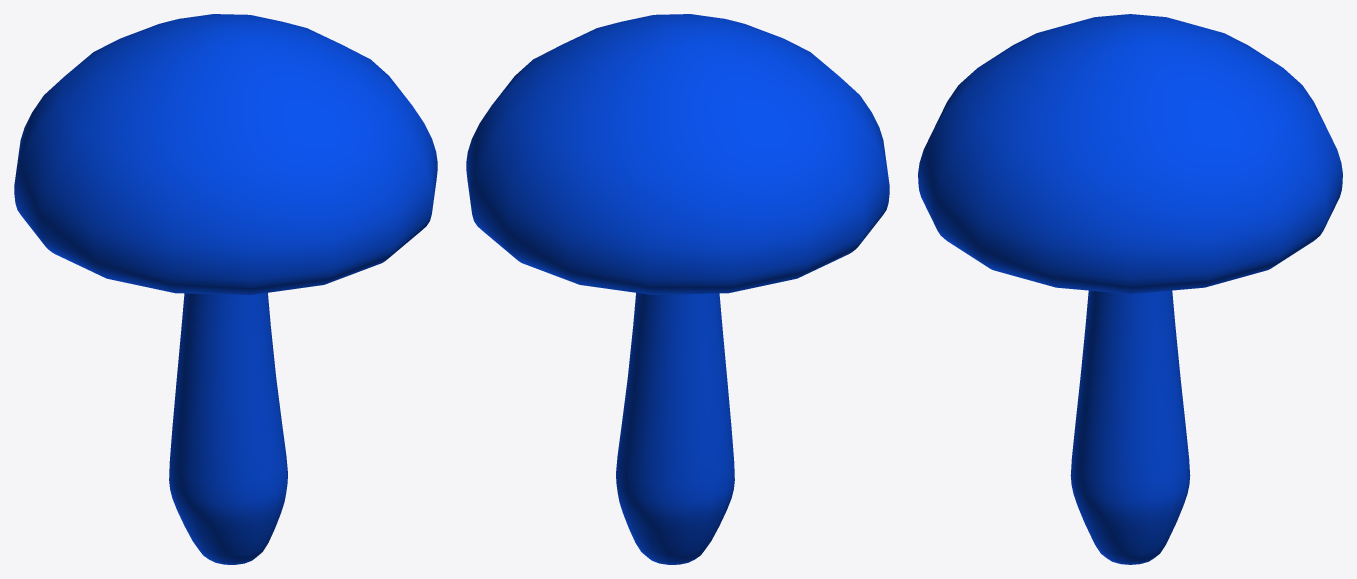
The model's file is Fantasy_Mushroom single.fbx.
3 views of the same model, side by side, from view 1: azimuth 30°, elevation 25°; view 2: azimuth 150°, elevation 25°; view 3: azimuth 270°, elevation 25° (orthographic).
Parts seen in each view (by area): view 1: Cylinder005; view 2: Cylinder005; view 3: Cylinder005.
Part boxes in pixels (left/top/right/bottom): Cylinder005: left=14, top=14, right=437, bottom=564; Cylinder005: left=466, top=14, right=889, bottom=564; Cylinder005: left=918, top=14, right=1342, bottom=564.
Bounding box in the file's own units: 21.16 × 28.75 × 21.16.
